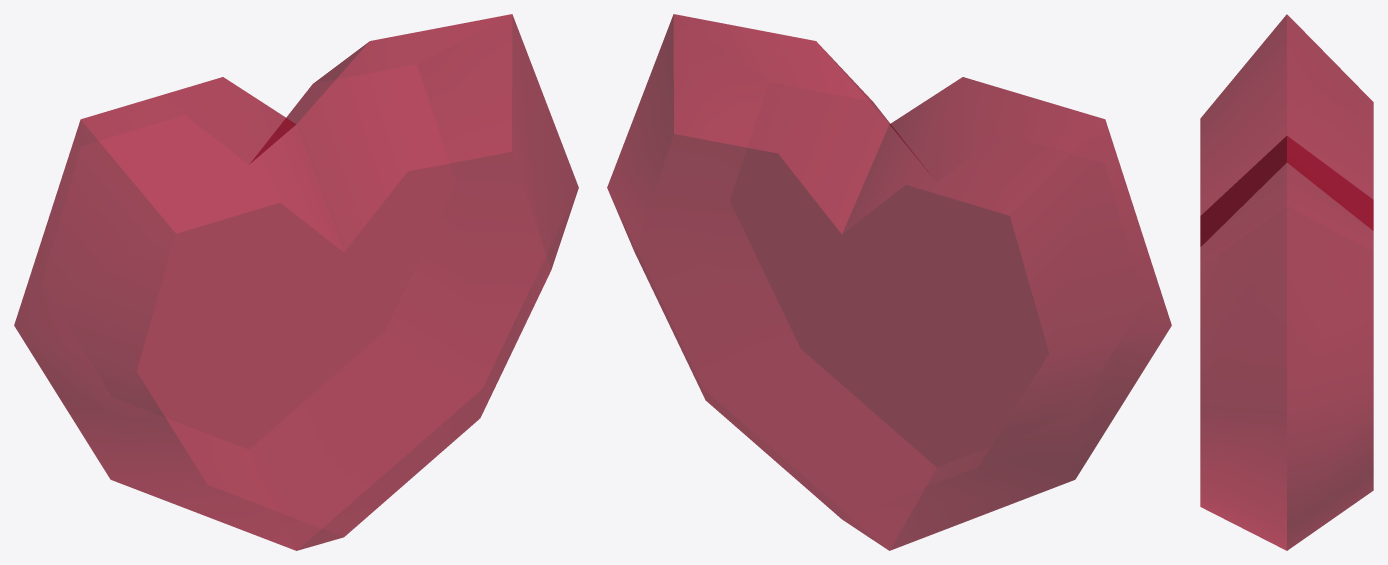
File: heart_2.fbx
The picture shows the model from 3 angles, left to right: view 1: azimuth 30°, elevation 25°; view 2: azimuth 150°, elevation 25°; view 3: azimuth 270°, elevation 25°; orthographic projection. The views are drawn at different scales.
Visible parts, largest first — view 1: Mesh (2); view 2: Mesh (2); view 3: Mesh (2).
Part boxes in pixels (bbox=[...]): Mesh (2): bbox=[14, 14, 578, 550]; Mesh (2): bbox=[607, 14, 1171, 550]; Mesh (2): bbox=[1200, 14, 1373, 550].
Bounding box in the file's own units: 132 × 110 × 38.48.
